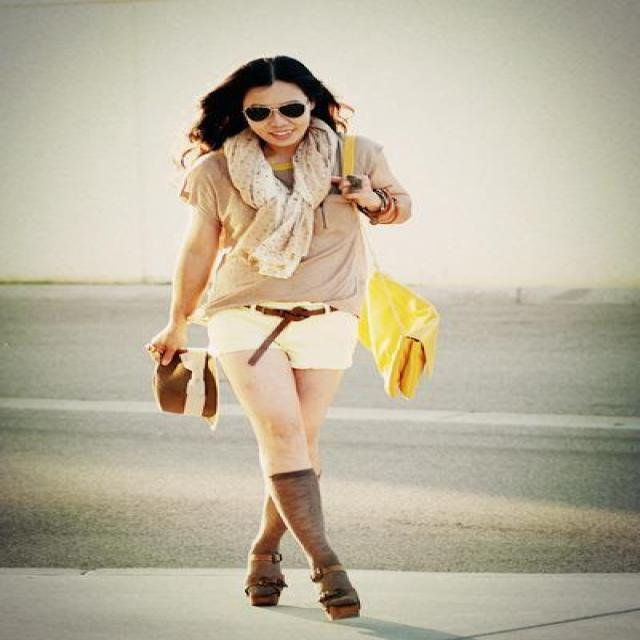bag: (351, 273, 442, 397)
shirt: (180, 133, 410, 319)
shoe: (245, 565, 360, 619)
shorts: (211, 303, 357, 369)
sunglass: (250, 104, 299, 120)
